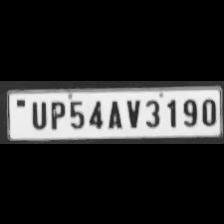0: (199, 95, 217, 125)
1: (163, 95, 179, 127)
3: (142, 96, 160, 128)
4: (86, 96, 104, 128)
5: (65, 96, 85, 128)
9: (178, 96, 198, 127)
A: (104, 96, 122, 128)
P: (46, 98, 64, 130)
U: (26, 98, 48, 128)
V: (122, 95, 140, 127)
